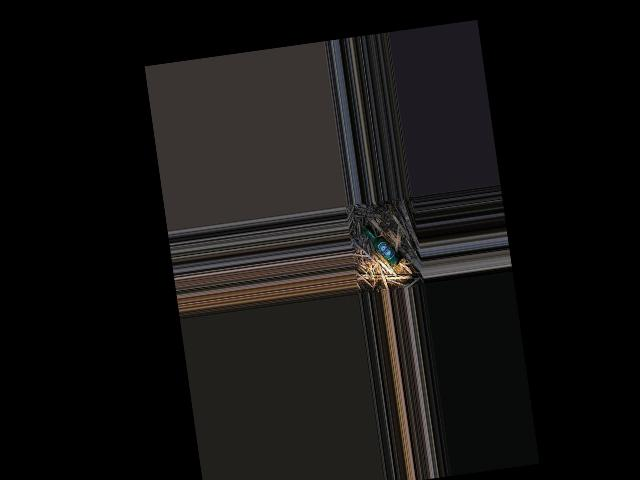beer: (362, 220, 404, 269)
